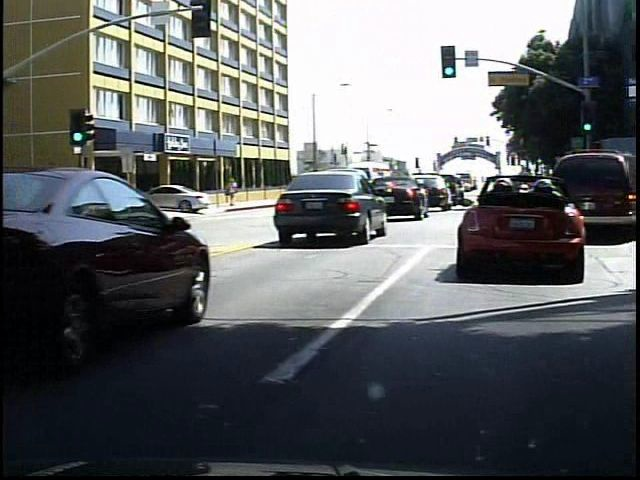person: (218, 172, 236, 208)
